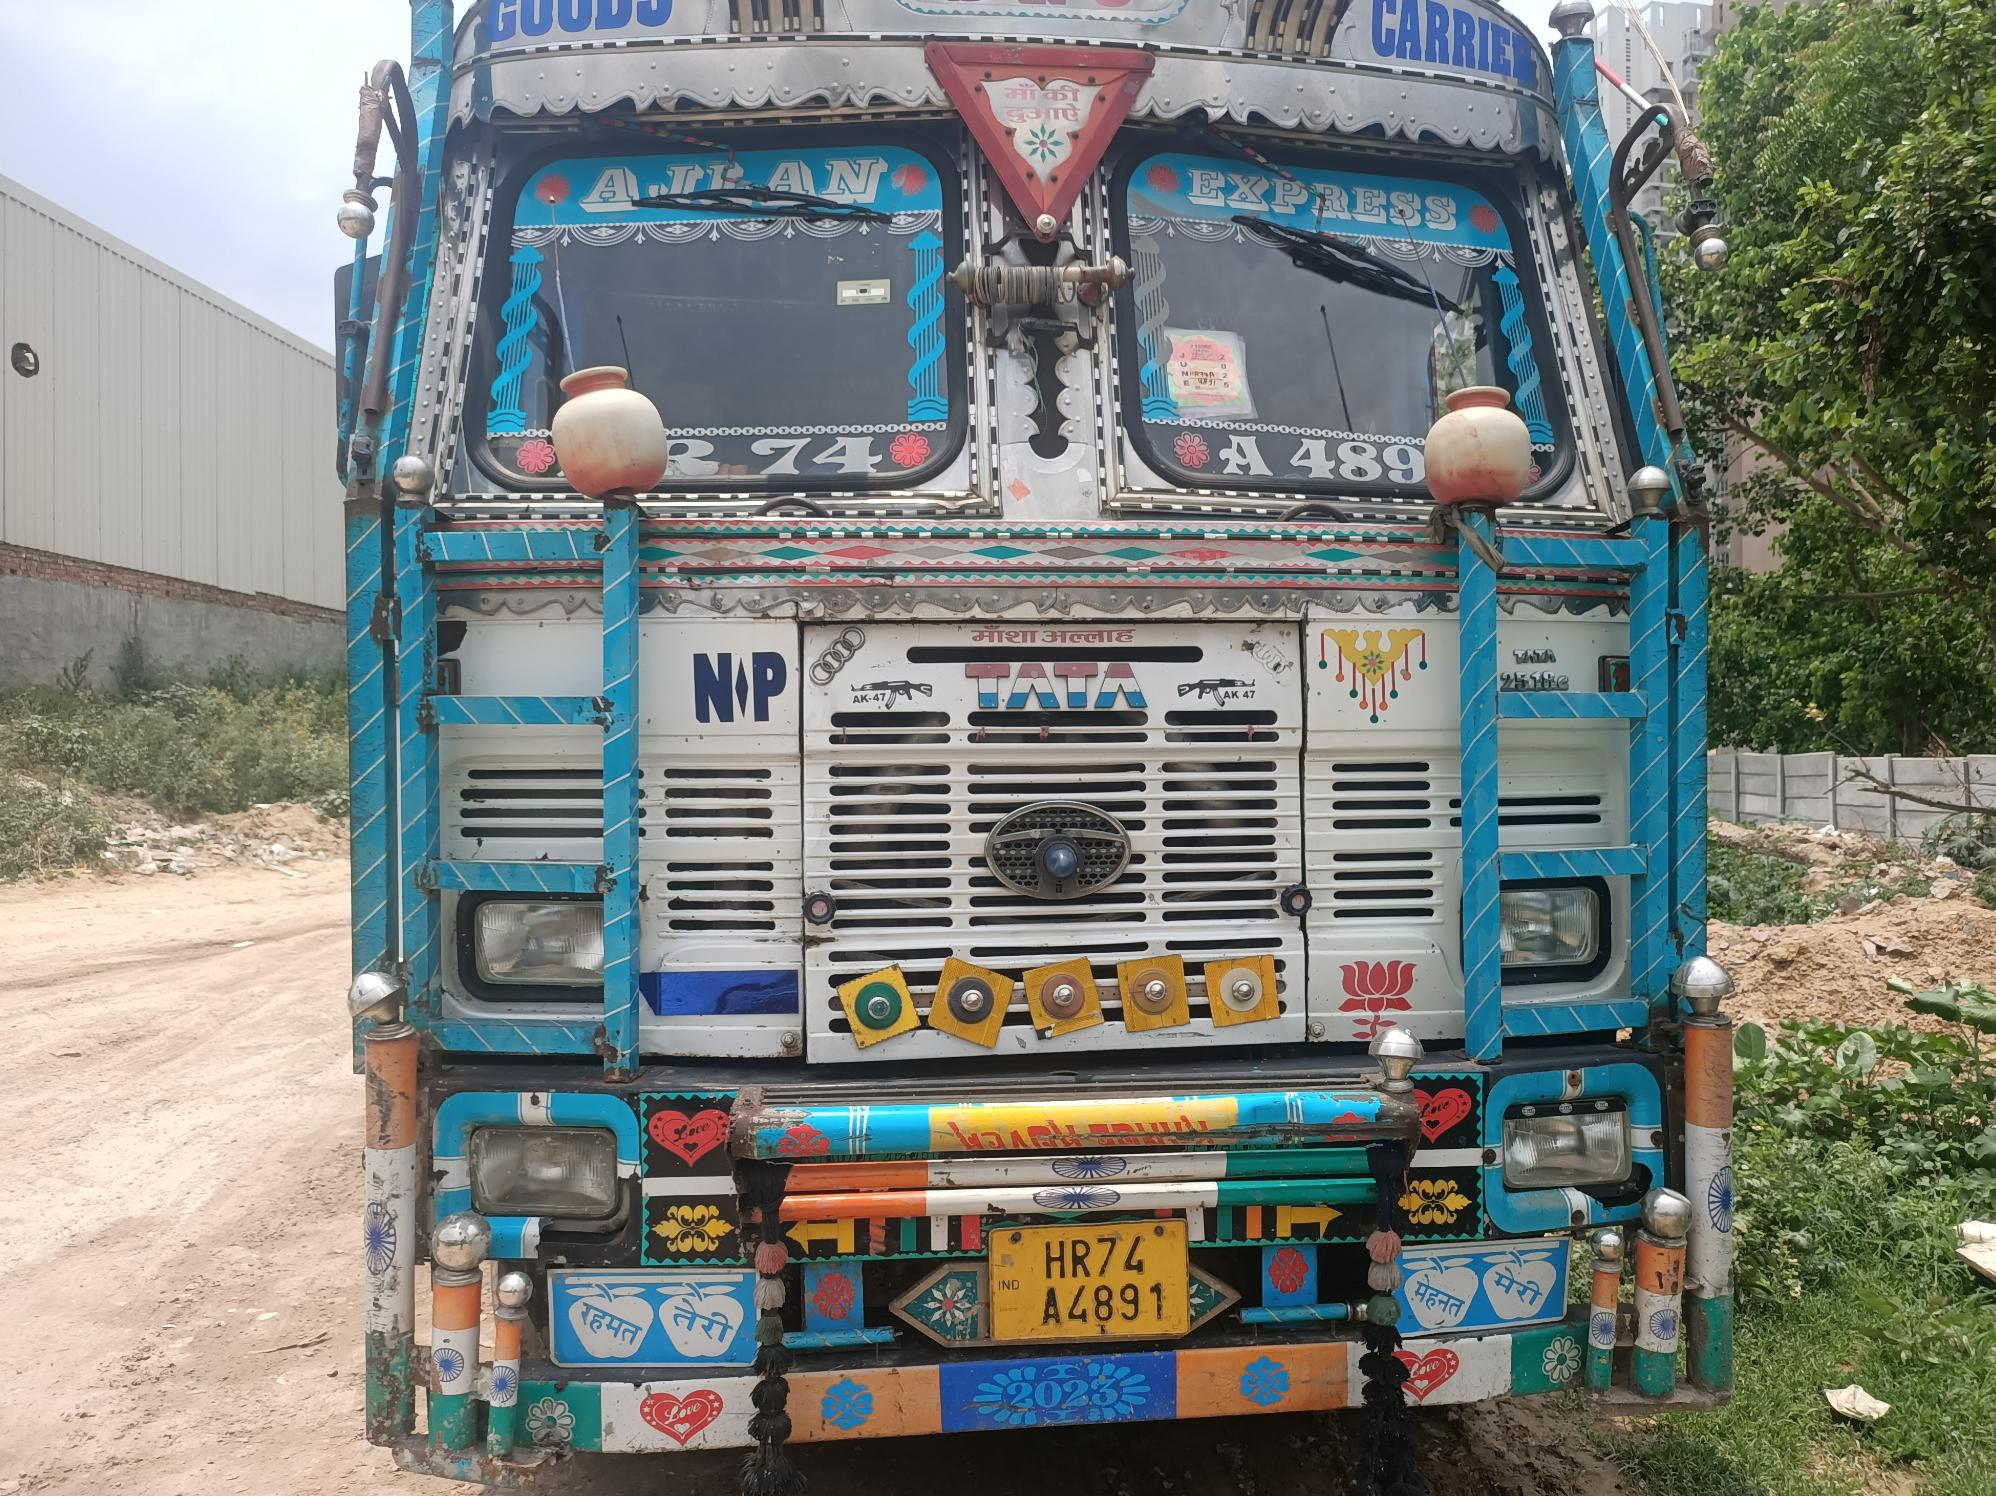FastTag: (828, 261, 901, 319)
not a FastTag: (1166, 154, 1484, 240), (558, 148, 915, 223), (1144, 324, 1273, 467), (1179, 424, 1407, 489), (709, 431, 915, 490)
